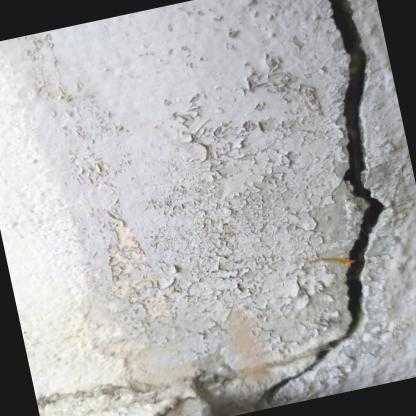crack: (259, 0, 385, 405)
